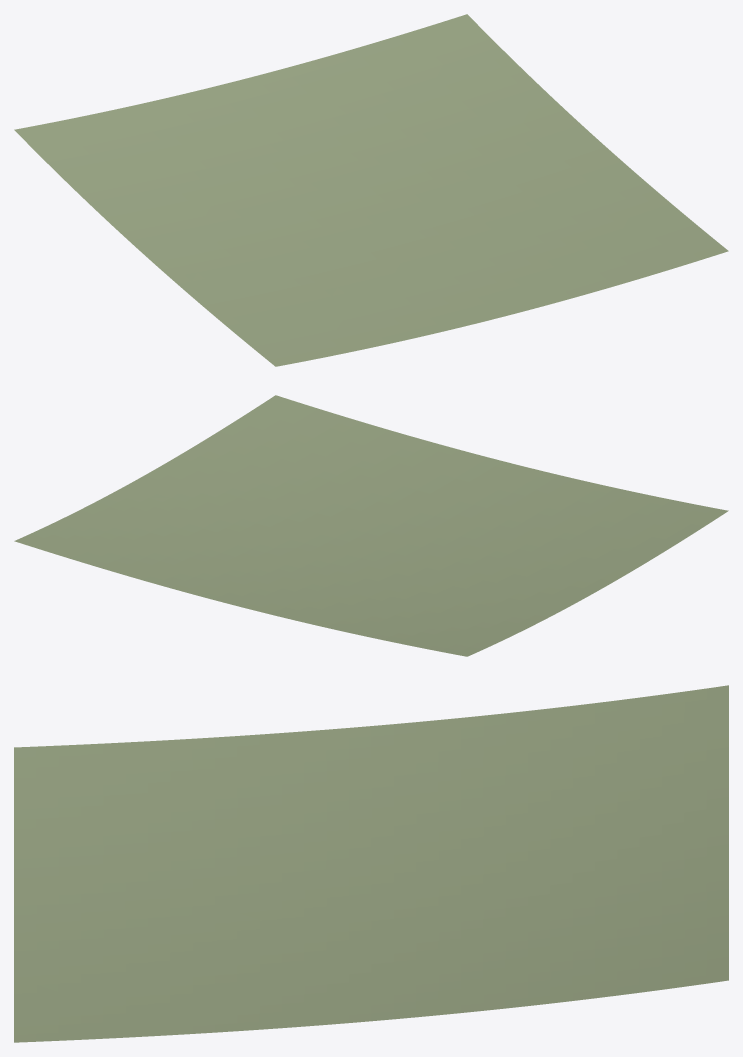
File: valley-4-3.glb
3 views of the same model, one above another, from view 1: azimuth 30°, elevation 25°; view 2: azimuth 150°, elevation 25°; view 3: azimuth 270°, elevation 25° (orthographic). The views are drawn at different scales.
Parts seen in each view (by area): view 1: valley-4-3; view 2: valley-4-3; view 3: valley-4-3.
Boxes of the visible parts, box(x1,y1,x2,y2) form: valley-4-3: box(14, 14, 728, 366); valley-4-3: box(14, 395, 728, 656); valley-4-3: box(14, 685, 728, 1042).
Bounding box in the file's own units: 256 × 30.4 × 256.
